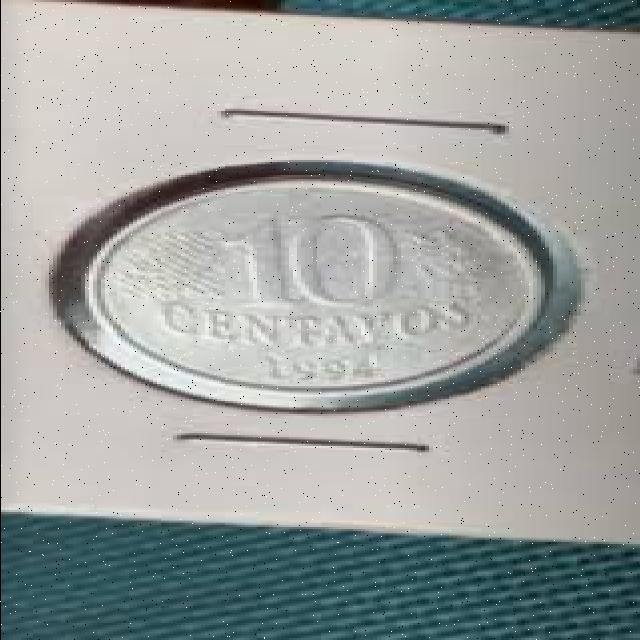10 cent: (64, 180, 555, 400)
